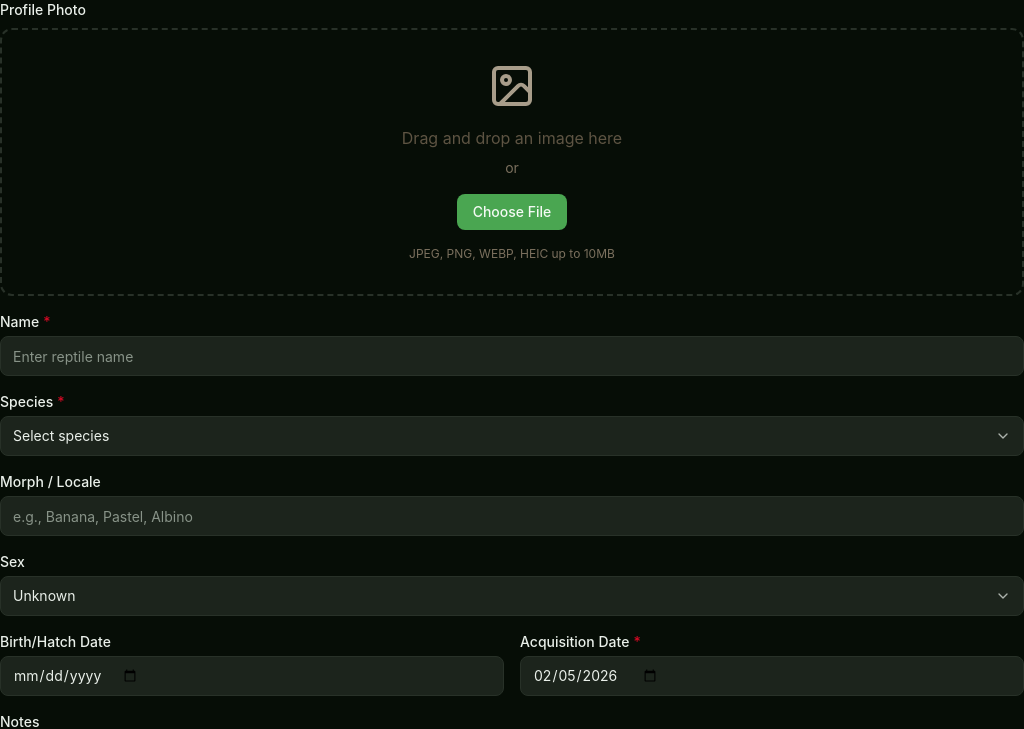
Test case: ReptileForm › species-aware measurements section › should show weight and length fields for snakes
Note: Select ball python
Click the dropdown labelled "Select species". click: (61, 436)
box: [0,416,1023,456]
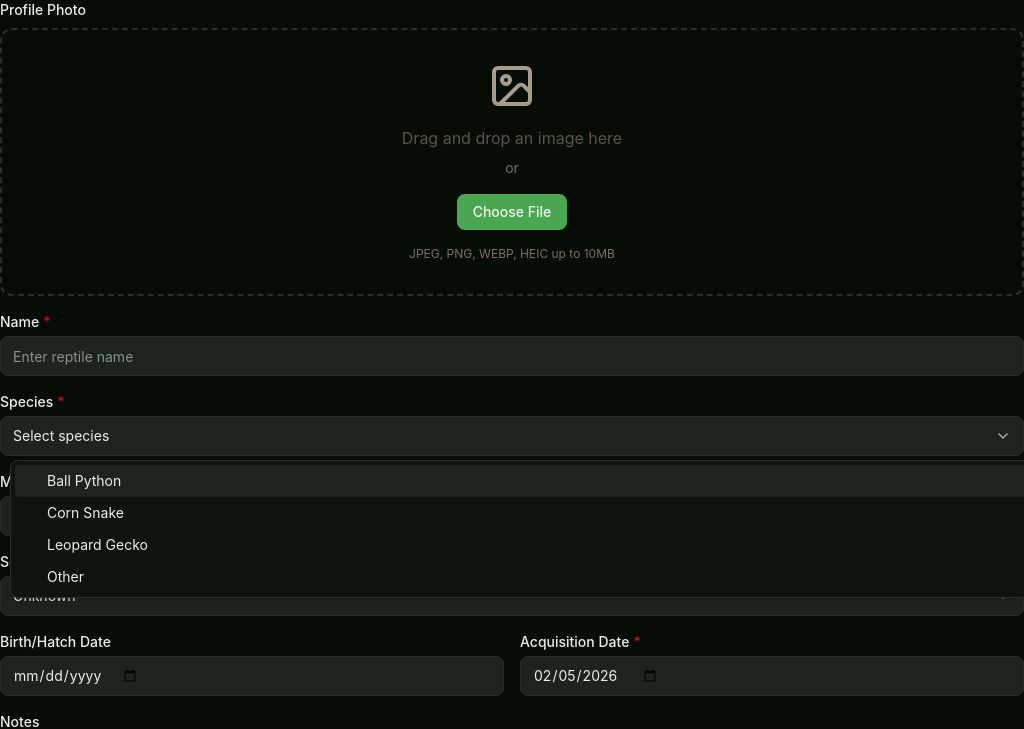
Click the option "Ball Python". click: (84, 480)
box: [15,465,1023,497]
(page scrolled)
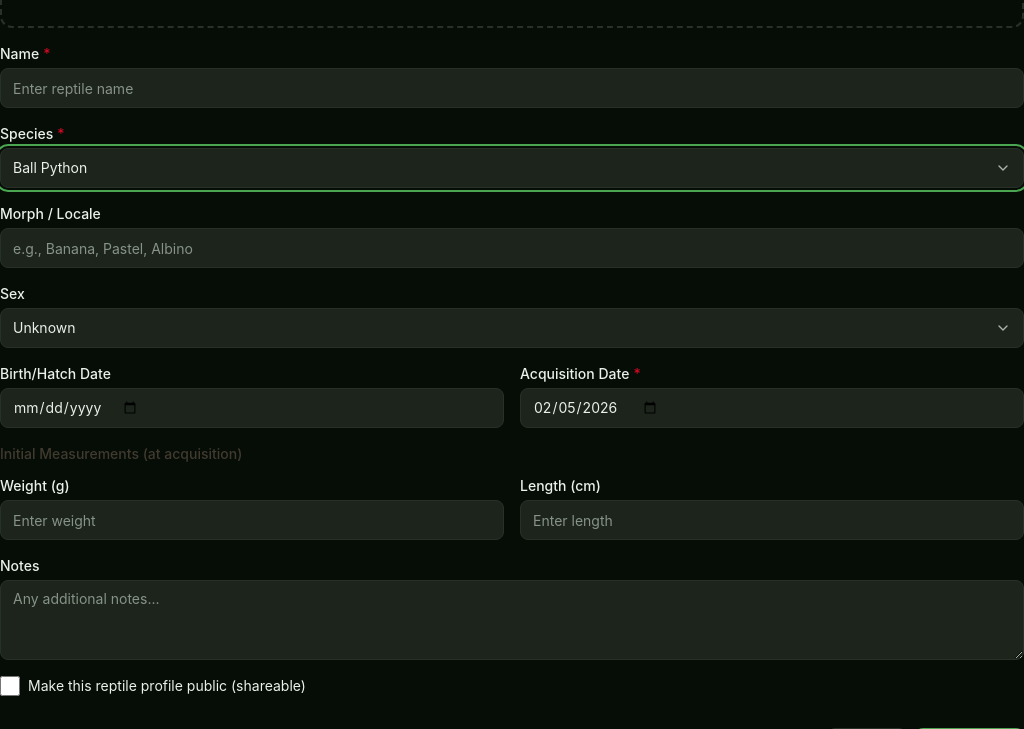
Now the heading "Initial Measurements (at acquisition)" is shown, box [0,445,242,462]
Now the number field labelled "Weight (g)" is shown, box [0,500,504,540]
Now the number field labelled "Length (cm)" is shown, box [520,500,1023,540]
